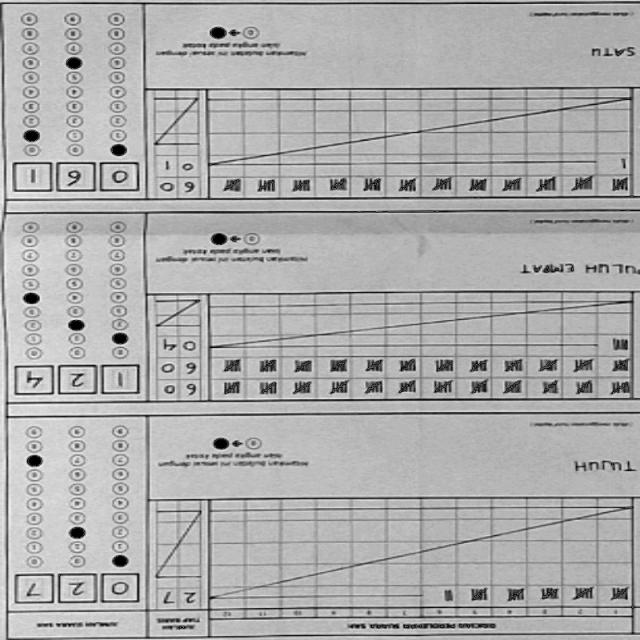Suara: (12, 570, 146, 610), (18, 366, 144, 400), (14, 162, 143, 195)
